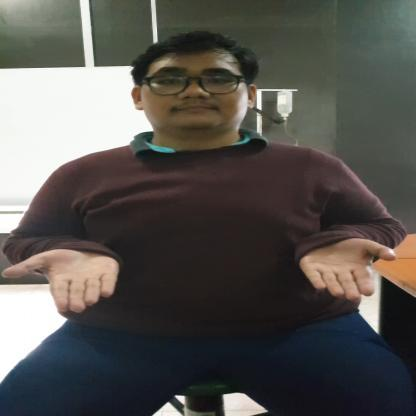Apa: (2, 229, 396, 318)
